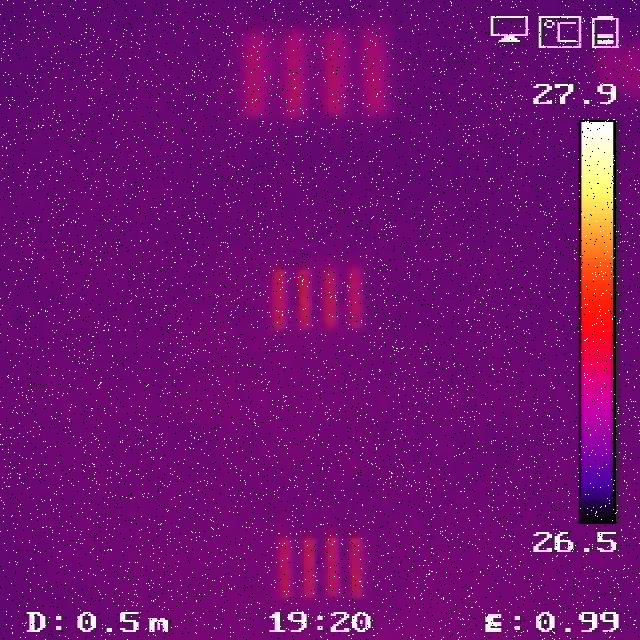Distinguishable 4-bar target: (237, 21, 395, 121), (267, 265, 368, 332), (275, 532, 365, 599)
